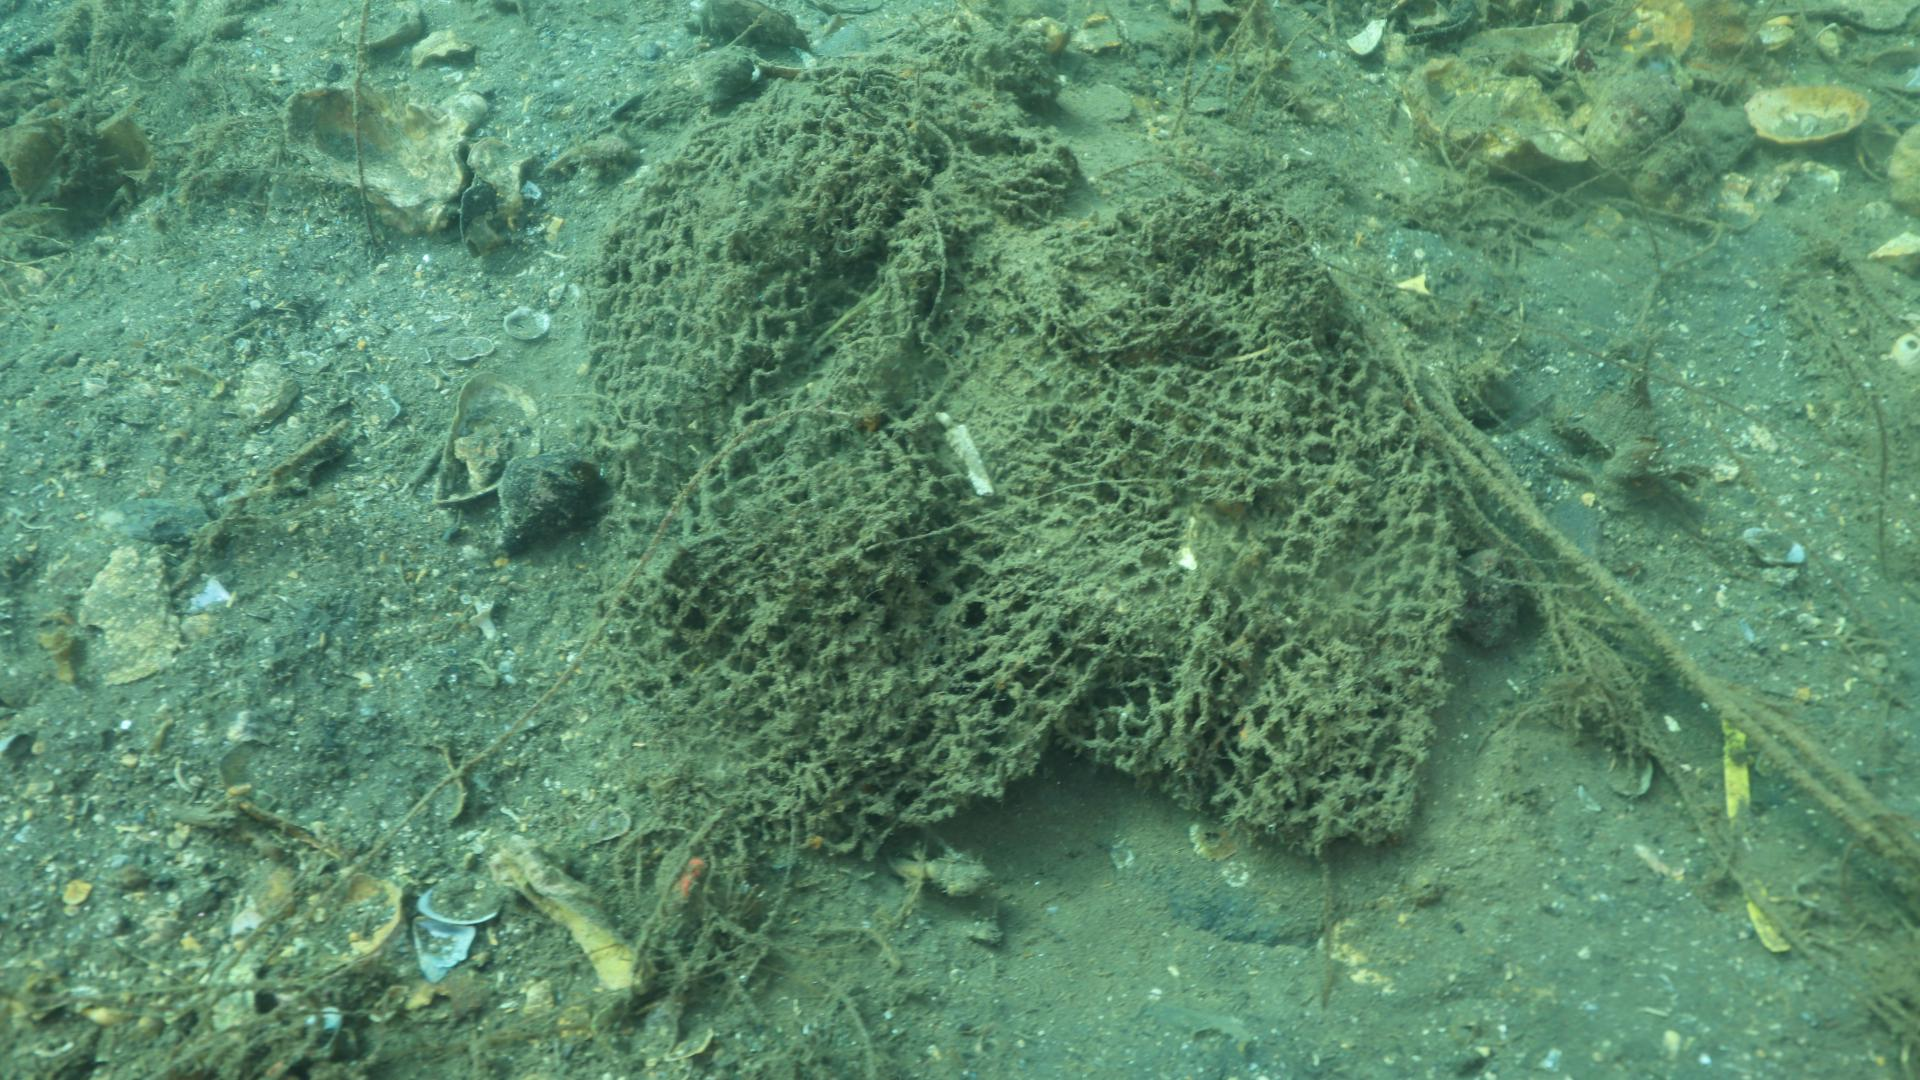bundle of ropes: (1415, 375, 1920, 870)
fish net: (584, 62, 1460, 847)
